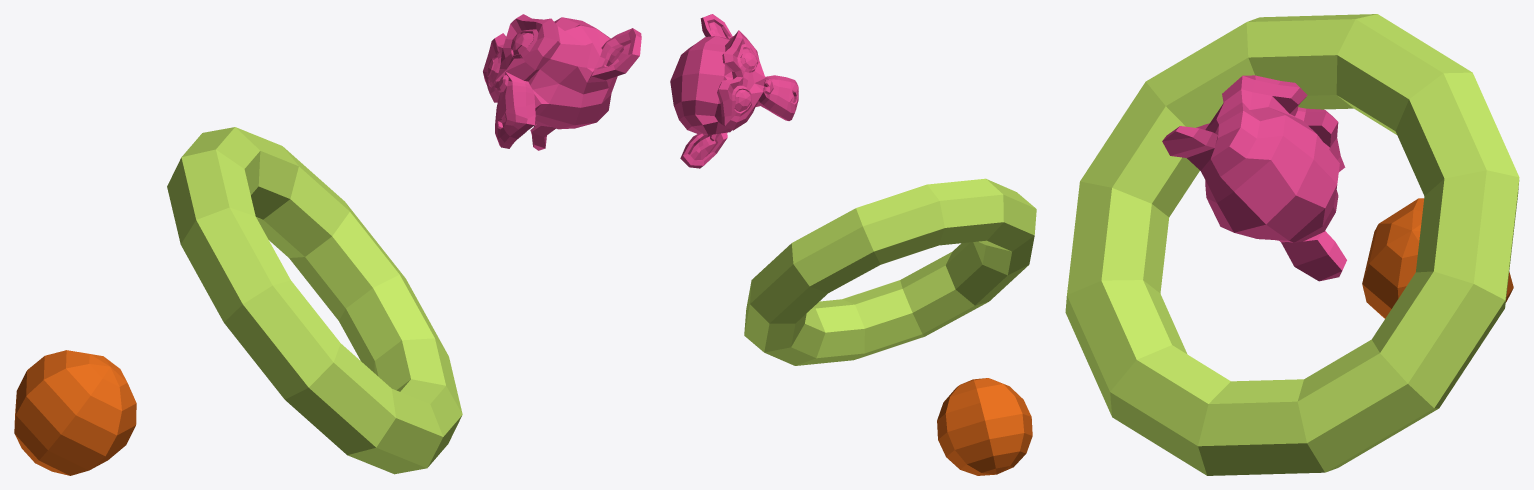
Rendered from complex.gltf.
3 renders of one model, left to right at view 1: azimuth 30°, elevation 25°; view 2: azimuth 150°, elevation 25°; view 3: azimuth 270°, elevation 25°, orthographic. The views are drawn at different scales.
Parts seen in each view (by area): view 1: Torus, Suzanne, Sphere.002; view 2: Torus, Suzanne, Sphere.002; view 3: Torus, Suzanne, Sphere.002.
Part boxes in pixels (left/top/right/bottom): Torus: left=167, top=127, right=462, bottom=474; Suzanne: left=483, top=14, right=641, bottom=150; Sphere.002: left=14, top=350, right=136, bottom=475; Torus: left=744, top=178, right=1036, bottom=365; Suzanne: left=670, top=14, right=798, bottom=168; Sphere.002: left=937, top=378, right=1032, bottom=475; Torus: left=1065, top=14, right=1519, bottom=475; Suzanne: left=1162, top=75, right=1346, bottom=281; Sphere.002: left=1362, top=198, right=1513, bottom=318.
Size of the model in its own units: 1.89 by 1.43 by 1.17.
